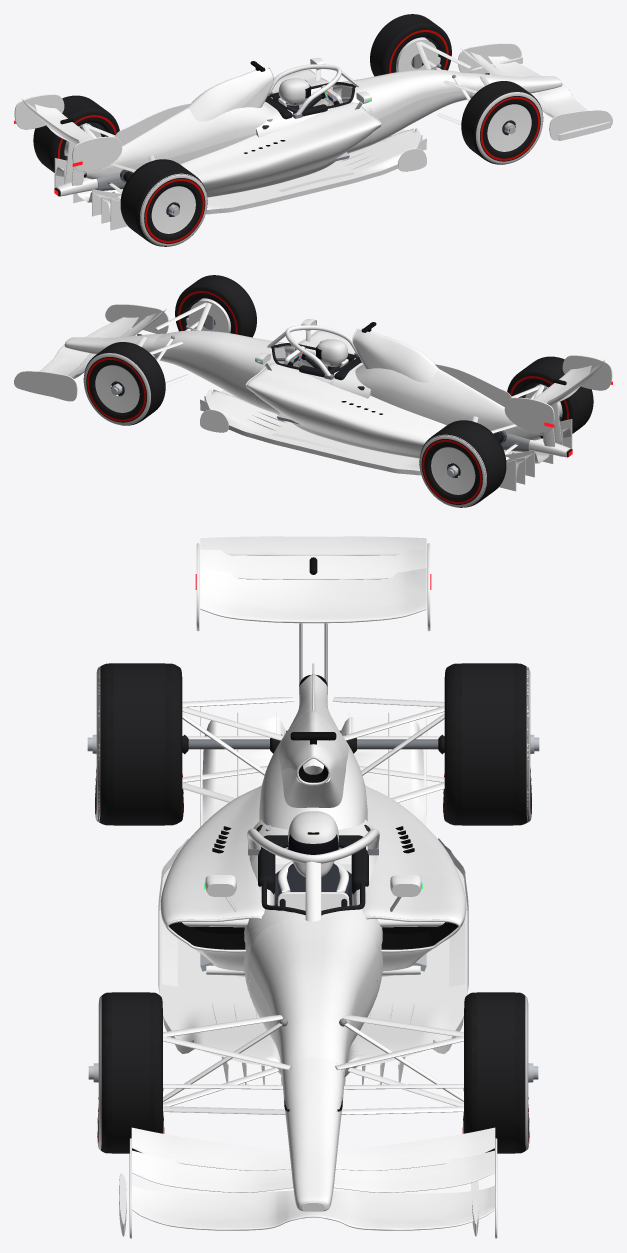
3 renders of one model, top to bottom at view 1: azimuth 30°, elevation 25°; view 2: azimuth 150°, elevation 25°; view 3: azimuth 270°, elevation 25°, orthographic. The views are drawn at different scales.
Visible parts, largest first — view 1: sidepod-L, survival-cell, engine-cover, floor, tyre-RL, front-wing, tyre-FL, rear-wing, tyre-FR, roll-structure, tyre-RR, diffuser (+15 smaller); view 2: sidepod-R, survival-cell, engine-cover, floor, tyre-RR, front-wing, tyre-FR, rear-wing, tyre-FL, roll-structure, tyre-RL, diffuser (+15 smaller); view 3: survival-cell, floor, tyre-RL, tyre-RR, front-wing, sidepod-L, sidepod-R, rear-wing, tyre-FL, tyre-FR, diffuser, fwFlap1 (+16 smaller).
Part boxes in pixels (x1,y1,x2,y2): sidepod-L: (180,102,381,197); survival-cell: (256,69,474,153); engine-cover: (84,103,271,179); floor: (205,128,426,214); tyre-RL: (120,159,207,246); front-wing: (458,43,612,140); tyre-FL: (461,81,543,164); rear-wing: (14,94,122,171); tyre-FR: (370,14,451,76); roll-structure: (188,67,274,121); tyre-RR: (33,95,119,172); diffuser: (54,158,127,230); sidepod-R: (245,363,446,458); survival-cell: (152,330,370,414); engine-cover: (355,364,542,440); floor: (200,389,421,475); tyre-RR: (419,420,506,507); front-wing: (14,304,168,401); tyre-FR: (83,342,165,425); rear-wing: (504,355,612,432); tyre-FL: (175,275,256,337); roll-structure: (352,328,438,382); tyre-RL: (507,356,593,433); diffuser: (499,419,572,491); survival-cell: (243,819,383,1078); floor: (158,838,468,1085); tyre-RL: (95,663,183,825); tyre-RR: (443,663,531,825); front-wing: (119,1138,497,1238); sidepod-L: (160,785,274,976); sidepod-R: (352,785,466,976); rear-wing: (195,543,431,631); tyre-FL: (97,992,164,1153); tyre-FR: (462,992,529,1153); diffuser: (200,706,426,826); fwFlap1: (131,1127,495,1170).
Size of the model in its own units: 5.3 by 1.05 by 1.98.
